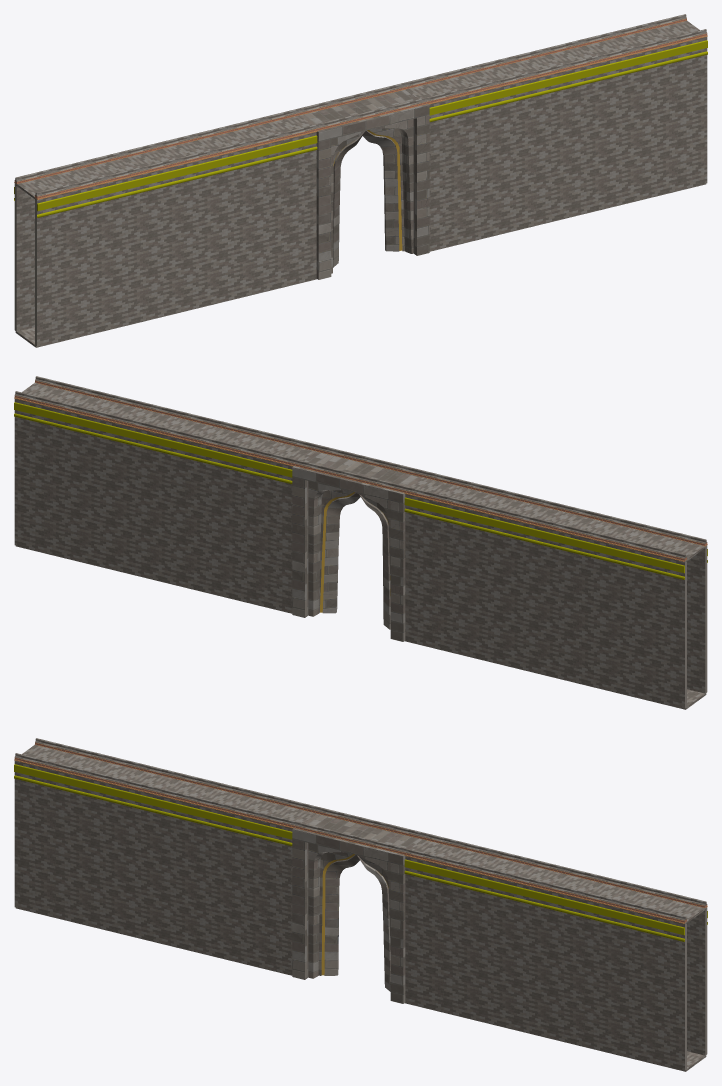
Rendered from wall_gate_standard_medium.fbx.
The picture shows the model from 3 angles, top to bottom: view 1: azimuth 30°, elevation 25°; view 2: azimuth 150°, elevation 25°; view 3: azimuth 330°, elevation 25°; orthographic projection.
Parts seen in each view (by area): view 1: gate_frame, gate_trim_interior, gate_frame_2, SM_Bld_Castle_Wall_180, SM_Bld_Castle_Wall_181, SM_Bld_Castle_Wall_178, SM_Bld_Castle_Wall_66, SM_Bld_Castle_Wall_68, SM_Bld_Castle_Wall_92, SM_Bld_Castle_Wall_140, SM_Bld_Castle_Wall_74, SM_Bld_Castle_Wall_76 (+61 smaller); view 2: gate_frame, gate_trim_interior, gate_frame_2, SM_Bld_Castle_Wall_177, SM_Bld_Castle_Wall_182, SM_Bld_Castle_Wall_179, SM_Bld_Castle_Wall_67, SM_Bld_Castle_Wall_70, SM_Bld_Castle_Wall_96, SM_Bld_Castle_Wall_142, SM_Bld_Castle_Wall_75, SM_Bld_Castle_Wall_78 (+61 smaller); view 3: gate_frame, gate_trim_interior, gate_frame_2, SM_Bld_Castle_Wall_116, SM_Bld_Castle_Wall_117, SM_Bld_Castle_Wall_119, SM_Bld_Castle_Wall_76, SM_Bld_Castle_Wall_130, SM_Bld_Castle_Wall_132, SM_Bld_Castle_Wall_157, SM_Bld_Castle_Wall_74, SM_Bld_Castle_Wall_92 (+61 smaller).
Part boxes in pixels (x1=…): gate_frame: x1=299, y1=90, x2=429, y2=279; gate_trim_interior: x1=333, y1=130, x2=399, y2=267; gate_frame_2: x1=331, y1=119, x2=413, y2=273; SM_Bld_Castle_Wall_180: x1=35, y1=264, x2=72, y2=309; SM_Bld_Castle_Wall_181: x1=35, y1=301, x2=72, y2=346; SM_Bld_Castle_Wall_178: x1=35, y1=227, x2=72, y2=272; SM_Bld_Castle_Wall_66: x1=460, y1=124, x2=495, y2=169; SM_Bld_Castle_Wall_68: x1=460, y1=161, x2=495, y2=206; SM_Bld_Castle_Wall_92: x1=566, y1=172, x2=601, y2=217; SM_Bld_Castle_Wall_140: x1=213, y1=221, x2=248, y2=266; SM_Bld_Castle_Wall_74: x1=495, y1=115, x2=530, y2=160; SM_Bld_Castle_Wall_76: x1=495, y1=152, x2=530, y2=197; gate_frame: x1=292, y1=452, x2=422, y2=641; gate_trim_interior: x1=322, y1=493, x2=390, y2=629; gate_frame_2: x1=308, y1=481, x2=390, y2=616; SM_Bld_Castle_Wall_177: x1=649, y1=663, x2=686, y2=708; SM_Bld_Castle_Wall_182: x1=649, y1=626, x2=686, y2=671; SM_Bld_Castle_Wall_179: x1=649, y1=589, x2=686, y2=634; SM_Bld_Castle_Wall_67: x1=226, y1=486, x2=261, y2=531; SM_Bld_Castle_Wall_70: x1=226, y1=523, x2=261, y2=568; SM_Bld_Castle_Wall_96: x1=120, y1=534, x2=155, y2=579; SM_Bld_Castle_Wall_142: x1=473, y1=583, x2=508, y2=628; SM_Bld_Castle_Wall_75: x1=191, y1=477, x2=226, y2=522; SM_Bld_Castle_Wall_78: x1=191, y1=514, x2=226, y2=559; gate_frame: x1=292, y1=814, x2=422, y2=1003; gate_trim_interior: x1=324, y1=855, x2=390, y2=991; gate_frame_2: x1=308, y1=843, x2=390, y2=978; SM_Bld_Castle_Wall_116: x1=649, y1=1025, x2=686, y2=1070; SM_Bld_Castle_Wall_117: x1=649, y1=988, x2=686, y2=1033; SM_Bld_Castle_Wall_119: x1=649, y1=951, x2=686, y2=996; SM_Bld_Castle_Wall_76: x1=473, y1=945, x2=508, y2=990; SM_Bld_Castle_Wall_130: x1=226, y1=848, x2=261, y2=893; SM_Bld_Castle_Wall_132: x1=226, y1=885, x2=261, y2=930; SM_Bld_Castle_Wall_157: x1=120, y1=896, x2=155, y2=941; SM_Bld_Castle_Wall_74: x1=473, y1=908, x2=508, y2=953; SM_Bld_Castle_Wall_92: x1=543, y1=999, x2=578, y2=1044.
Bounding box in the file's own units: 95 × 21.01 × 6.49.
